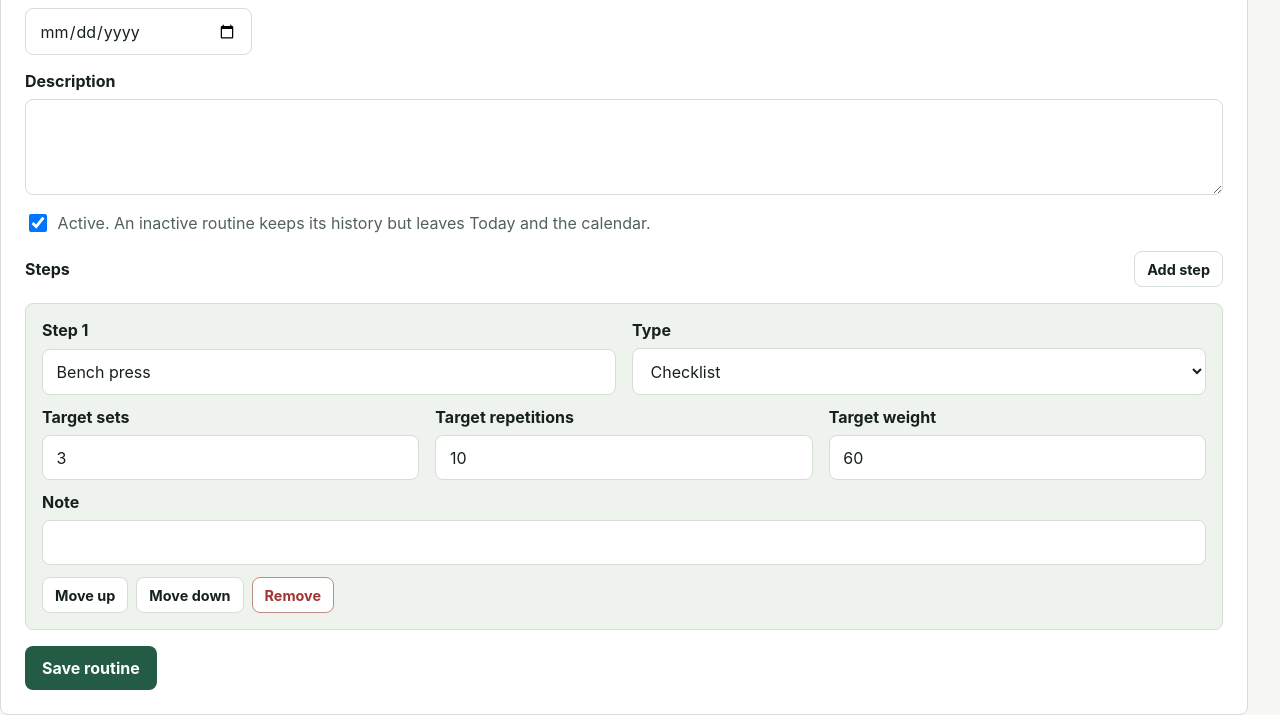
Scenario: RoutineDetailComponent › shows exercise fields only for an exercise step
(page scrolled)
Expected: the number field with id "target-sets-0" is shown, [42,435,419,480]
Select "Checklist" in the dropdown with id "step-type-0" at x=919, y=372, box [632,348,1206,395]
(page scrolled)
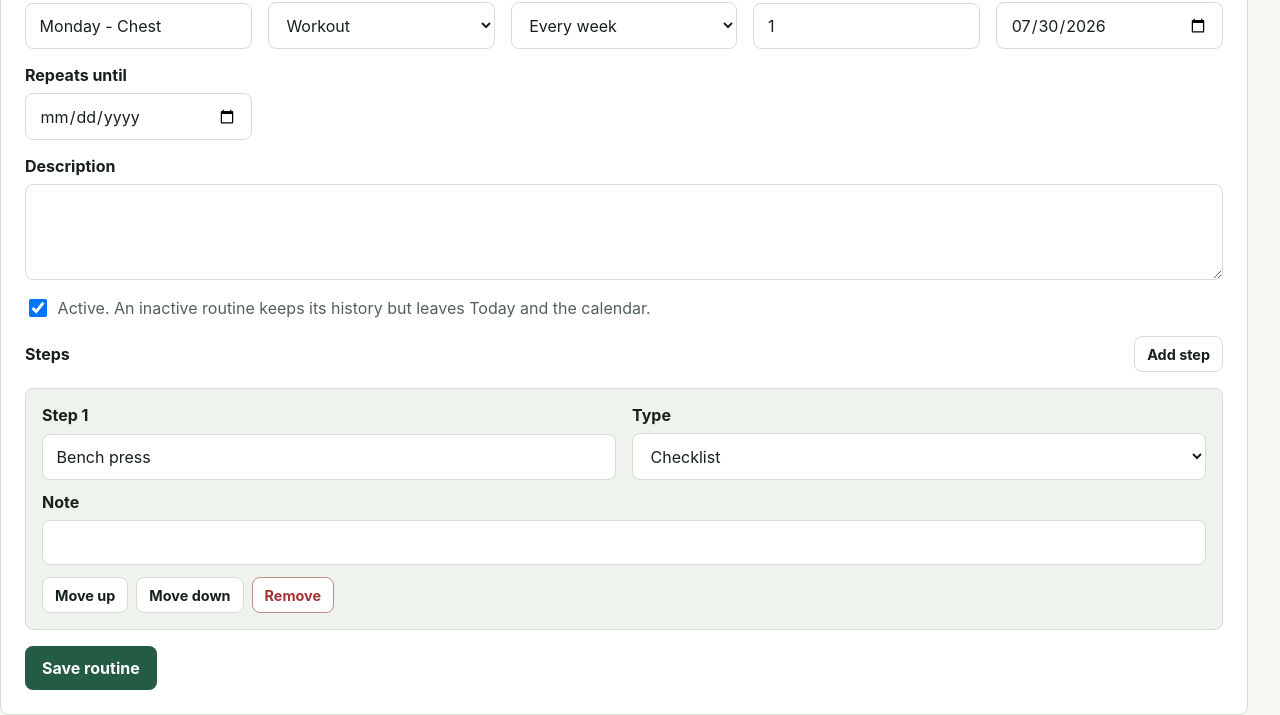
Expected: the label with id "target-sets-0" is gone
